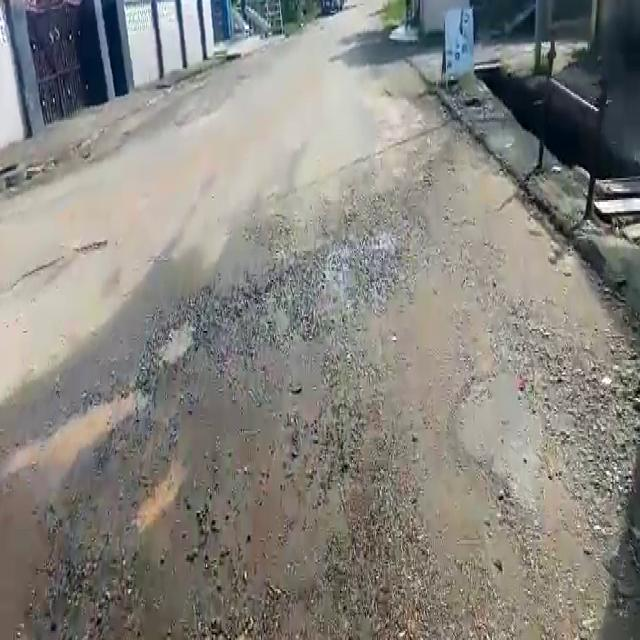Pothole: (157, 314, 196, 365)
